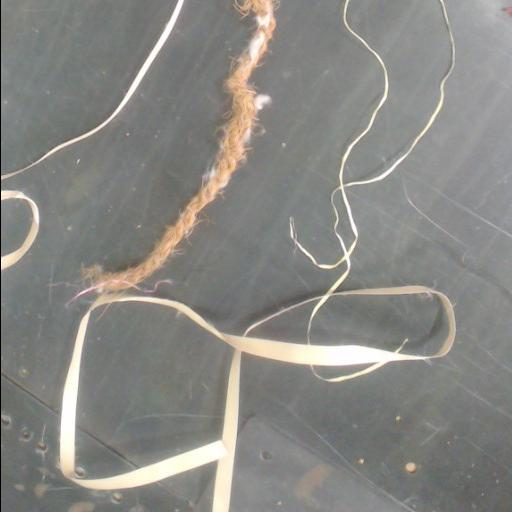conveyor belt: (231, 0, 512, 511), (231, 61, 512, 511), (1, 0, 248, 511), (1, 0, 248, 511), (133, 0, 381, 333), (137, 0, 377, 333), (1, 0, 172, 170), (1, 0, 171, 168), (76, 302, 230, 477), (77, 304, 229, 474), (345, 0, 448, 179), (353, 0, 445, 178), (310, 295, 442, 354), (312, 296, 442, 354), (1, 199, 28, 253)
jute: (76, 0, 275, 297)
thread: (58, 0, 455, 511), (1, 0, 183, 180), (1, 189, 39, 269)
